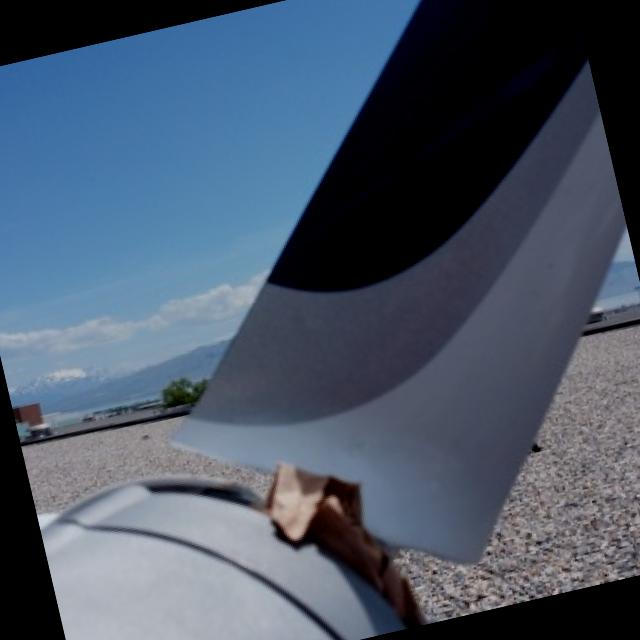healthy: (46, 484, 406, 640)
